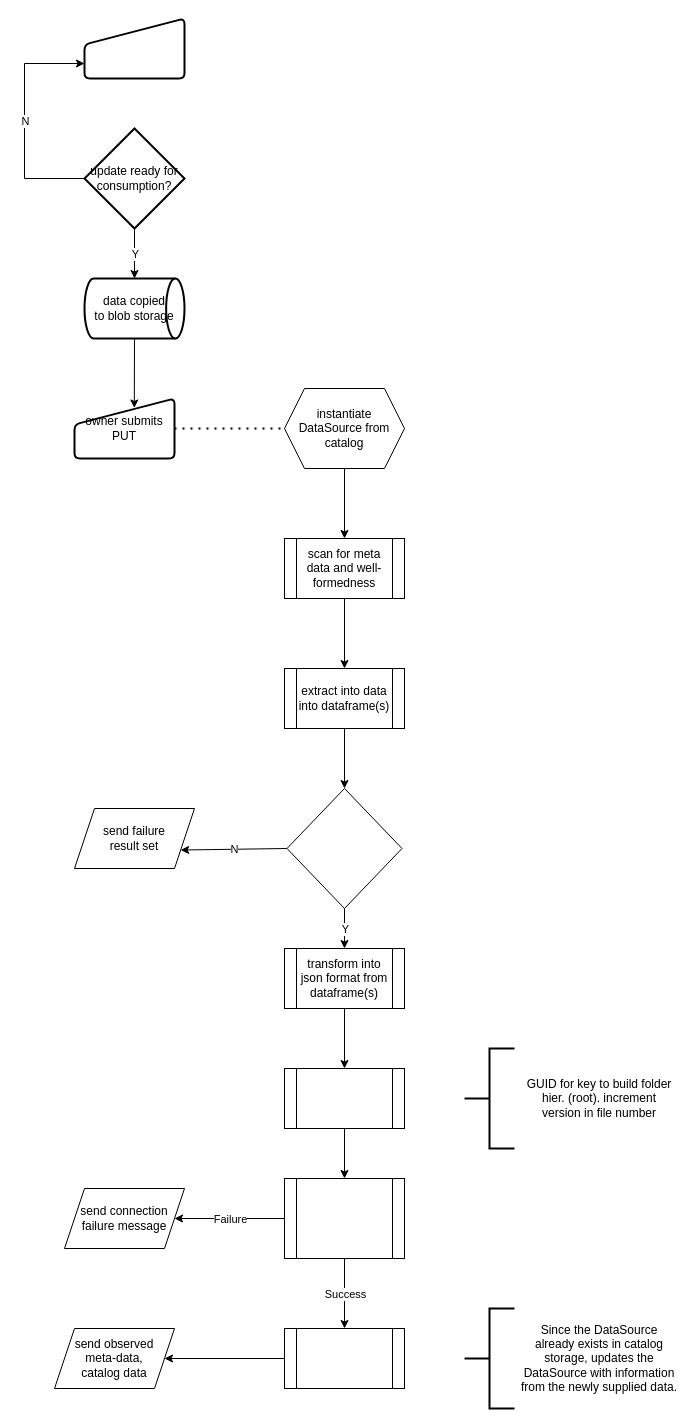
This 697x1426 diagram has some shape labels left out. The centre of each missing label's shape, as x and y in pixels:
load data to blob (serialize as json): the point at 344,1218
owner edits data: the point at 134,48
update serialized DataSource in catalog storage: the point at 344,1358
updated version in file name (before serialization): the point at 344,1098
warnings in owner tolerance?: the point at 344,848
